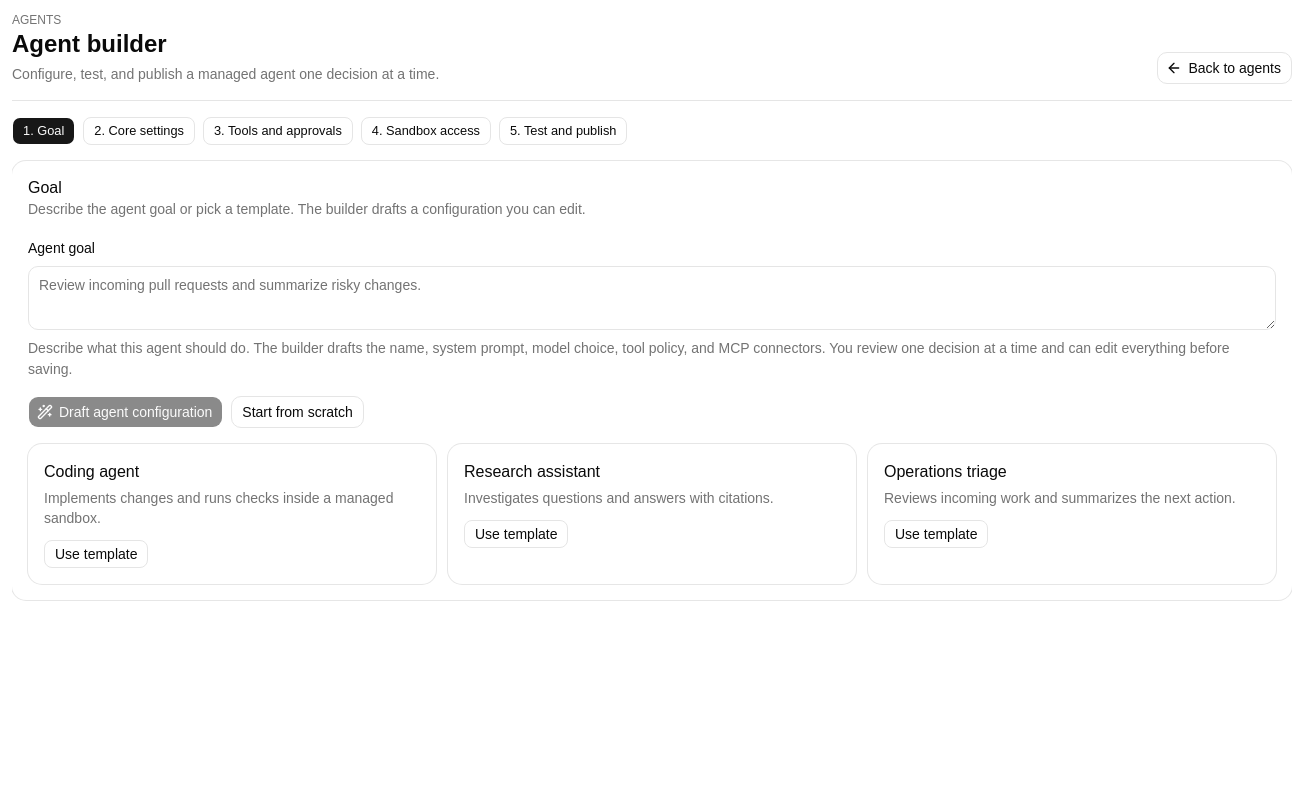
Test: [spec: agents/builder] AgentBuilderPage › clicking Draft agent configuration on start step navigates to core step
The image size is (1292, 812).
Type "Review incoming PRs" into the text box.
click(652, 298); type("Review incoming PRs")  # box top-left (28, 266), bottom-right (1276, 330)
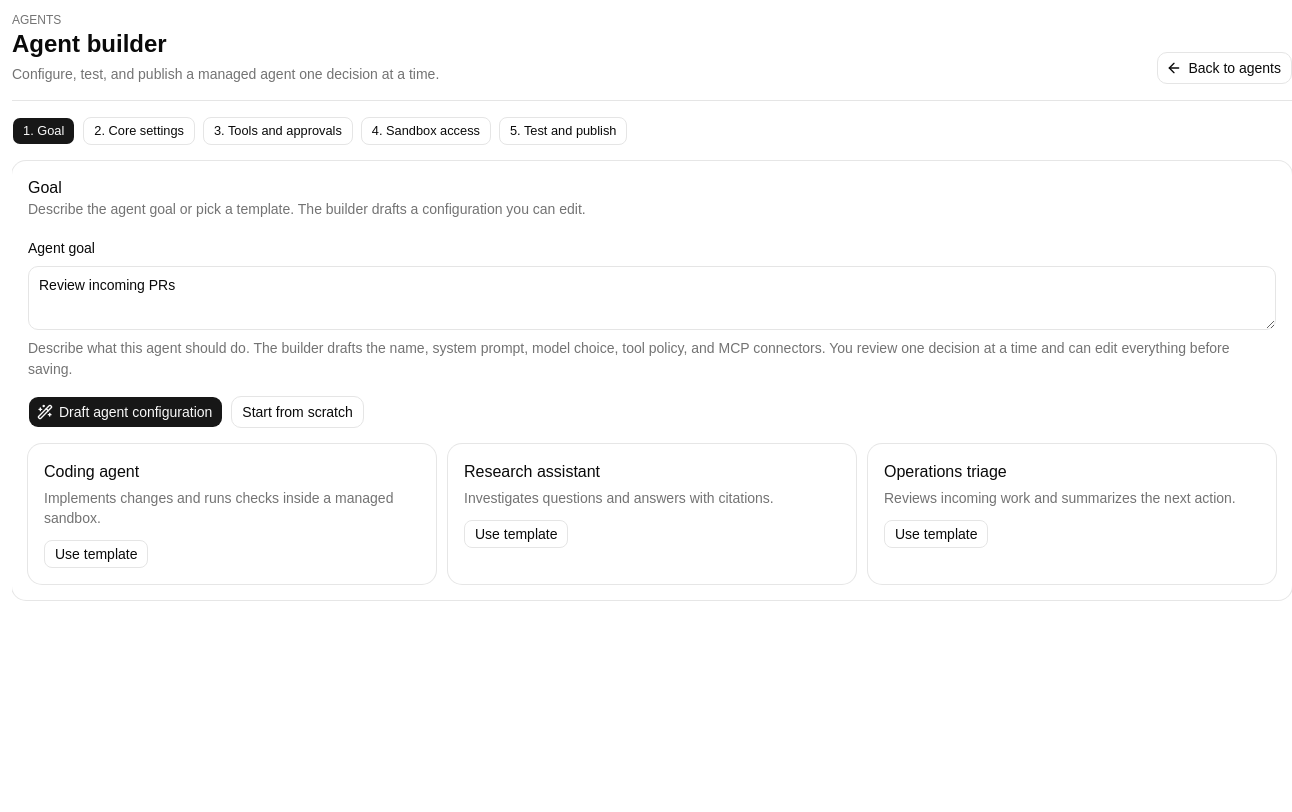
Click the button "Draft agent configuration".
click(126, 412)  # box top-left (28, 396), bottom-right (223, 428)
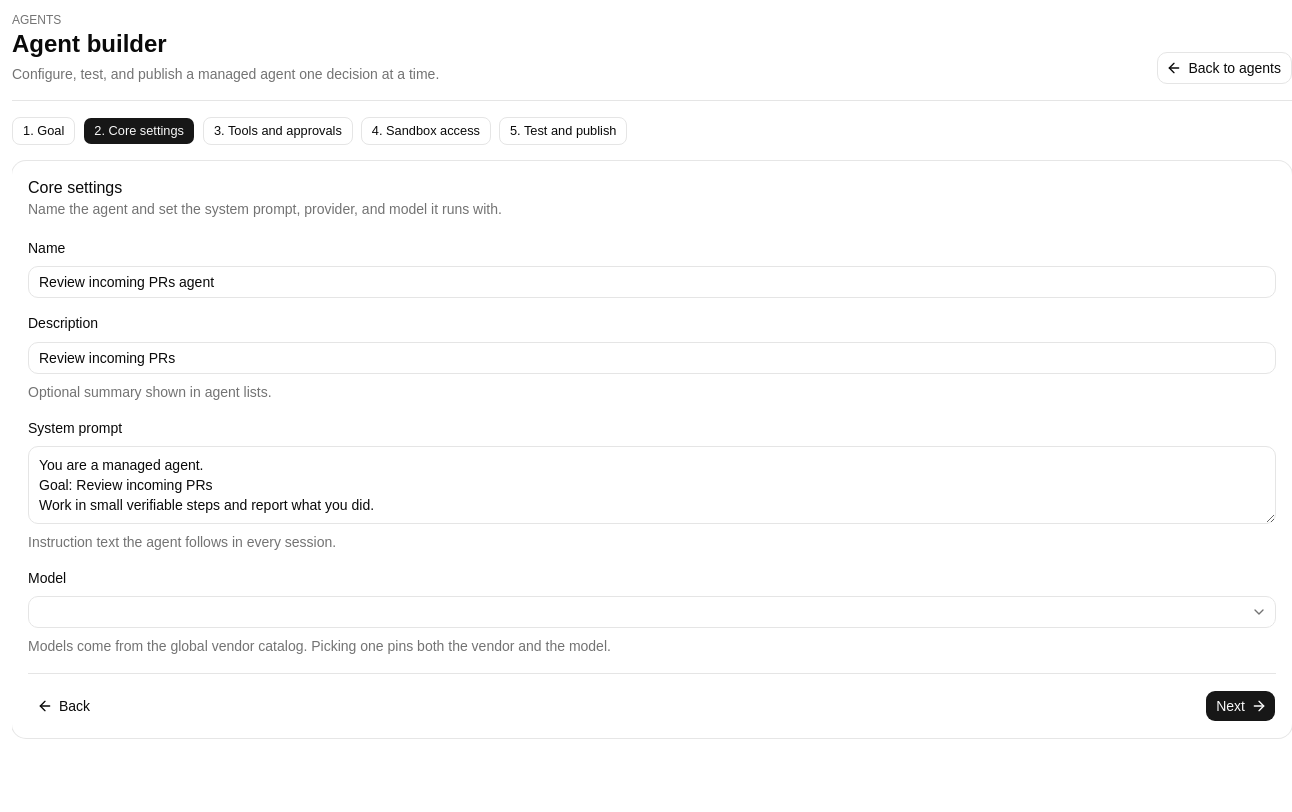
Now the field labelled "Name" is shown, box top-left (28, 266), bottom-right (1276, 298)
